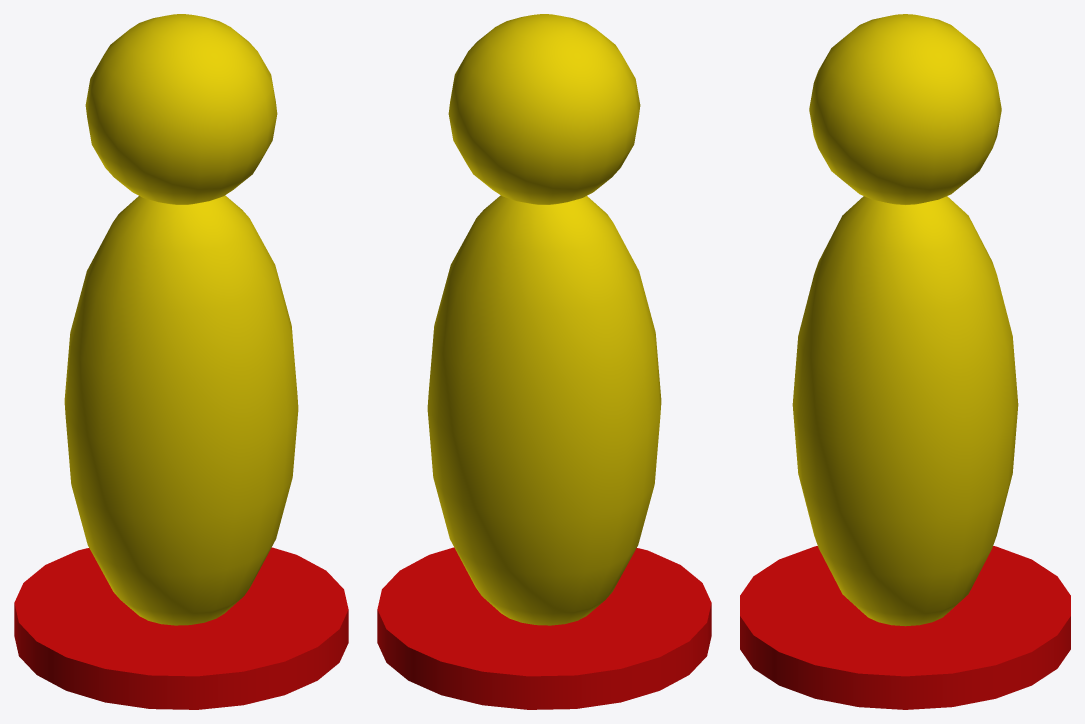
The model's file is danbinghuang1.gltf.
The picture shows the model from 3 angles, left to right: view 1: azimuth 30°, elevation 25°; view 2: azimuth 150°, elevation 25°; view 3: azimuth 270°, elevation 25°; orthographic projection.
Parts seen in each view (by area): view 1: Sphere001, Cylinder001, Sphere002; view 2: Sphere001, Cylinder001, Sphere002; view 3: Sphere001, Cylinder001, Sphere002.
Boxes of the visible parts, <box> form: Sphere001: <box>64,195,298,625</box>; Cylinder001: <box>14,547,348,709</box>; Sphere002: <box>85,14,277,204</box>; Sphere001: <box>427,195,661,625</box>; Cylinder001: <box>377,547,711,709</box>; Sphere002: <box>448,14,640,204</box>; Sphere001: <box>792,196,1018,626</box>; Cylinder001: <box>740,546,1070,709</box>; Sphere002: <box>809,14,1001,204</box>.
Size of the model in its own units: 54.22 by 110 by 53.67.
